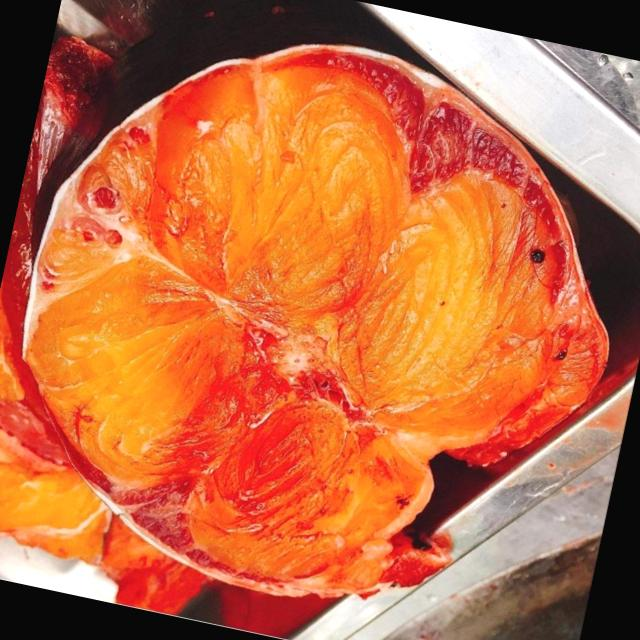ca kho: (23, 46, 608, 597)
